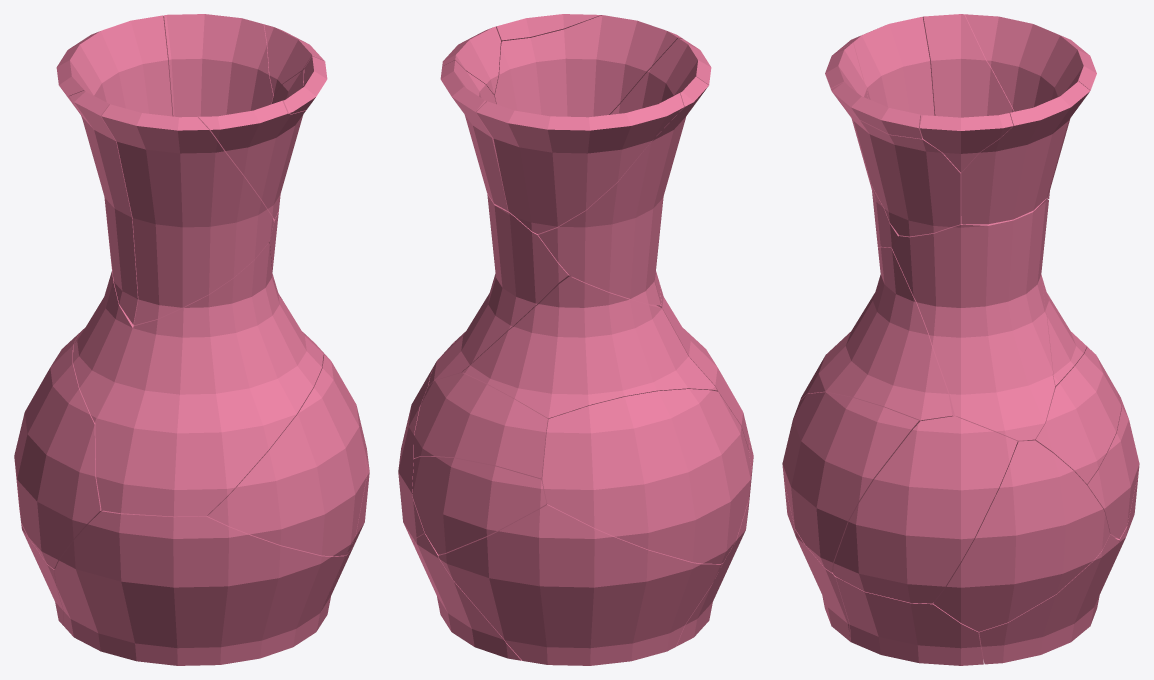
The model's file is vasebroken.fbx.
3 views of the same model, side by side, from view 1: azimuth 30°, elevation 25°; view 2: azimuth 150°, elevation 25°; view 3: azimuth 270°, elevation 25° (orthographic).
Visible parts, largest first — view 1: vase_cell.005, vase_cell.004, vase_cell.015, vase_cell.001, vase_cell.003, vase_cell.009, vase_cell.007, vase_cell.010, vase_cell, vase_cell.008, vase_cell.017, vase_cell.013 (+2 smaller); view 2: vase_cell.003, vase_cell.002, vase_cell.008, vase_cell.007, vase_cell.010, vase_cell, vase_cell.011, vase_cell.012, vase_cell.018, vase_cell.006, vase_cell.015, vase_cell.009 (+5 smaller); view 3: vase_cell.018, vase_cell.014, vase_cell.016, vase_cell.001, vase_cell.005, vase_cell.010, vase_cell.009, vase_cell.007, vase_cell.019, vase_cell.015, vase_cell.011, vase_cell.006 (+6 smaller).
Part boxes in pixels (x1,y1,x2,y2): vase_cell.005: (95,242,323,516); vase_cell.004: (54,510,346,665); vase_cell.015: (101,104,273,325); vase_cell.001: (207,354,366,556); vase_cell.003: (14,333,102,569); vase_cell.009: (163,14,273,120); vase_cell.007: (56,15,172,116); vase_cell.010: (198,69,305,219); vase_cell: (69,90,138,324); vase_cell.008: (73,261,133,422); vase_cell.017: (264,24,324,94); vase_cell.013: (284,56,327,113); vase_cell.003: (542,389,751,563); vase_cell.002: (438,503,722,665); vase_cell.008: (462,276,716,419); vase_cell.007: (476,93,683,233); vase_cell.010: (494,15,682,117); vase_cell: (538,77,708,305); vase_cell.011: (414,372,548,480); vase_cell.012: (412,456,546,554); vase_cell.018: (428,194,571,385); vase_cell.006: (414,533,521,660); vase_cell.015: (610,38,711,305); vase_cell.009: (440,60,508,211); vase_cell.018: (892,199,1054,440); vase_cell.014: (833,416,1017,603); vase_cell.016: (933,440,1109,631); vase_cell.001: (782,392,919,572); vase_cell.005: (800,247,958,421); vase_cell.010: (825,43,960,236); vase_cell.009: (961,81,1089,224); vase_cell.007: (965,14,1096,198); vase_cell.019: (836,577,983,665); vase_cell.015: (837,16,934,247); vase_cell.011: (1027,347,1121,484); vase_cell.006: (978,534,1119,664).
Bounding box in the file's own units: 93.88 × 157 × 93.88.
